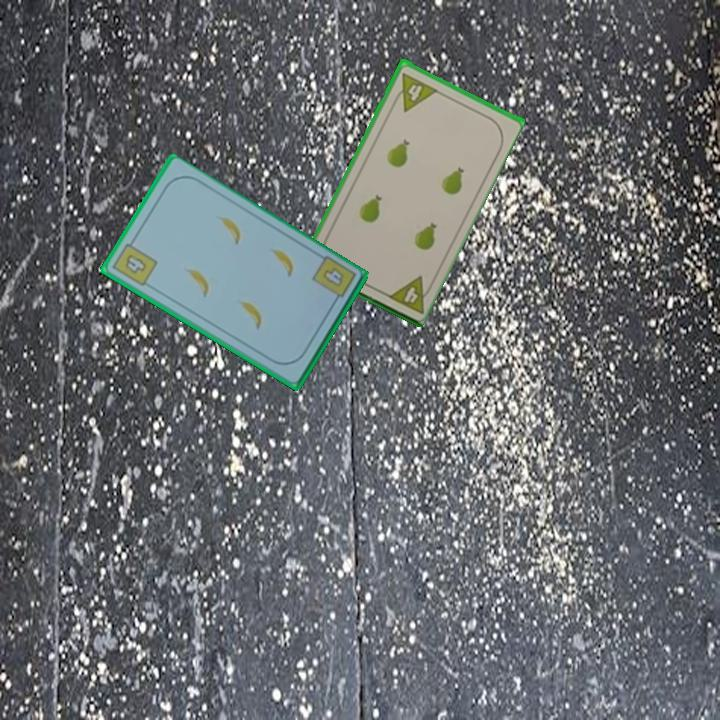4b: (308, 252, 359, 308), (109, 235, 160, 290)
4p: (383, 271, 437, 316), (389, 69, 439, 114)
